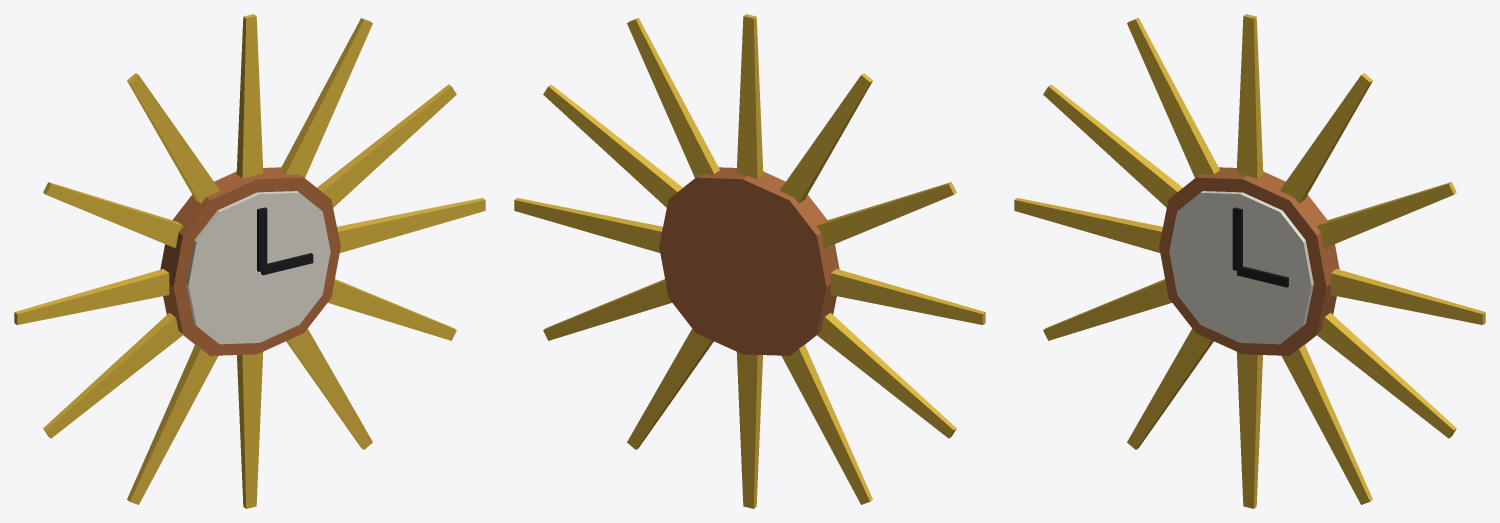
File: GD_Clock_Wall_Retro_01.glb
3 renders of one model, left to right at view 1: azimuth 30°, elevation 25°; view 2: azimuth 150°, elevation 25°; view 3: azimuth 330°, elevation 25°, orthographic.
Parts seen in each view (by area): view 1: GD_Clock_Wall_Retro_01; view 2: GD_Clock_Wall_Retro_01; view 3: GD_Clock_Wall_Retro_01.
Part boxes in pixels (x1=…): GD_Clock_Wall_Retro_01: x1=14, y1=14, x2=485, y2=508; GD_Clock_Wall_Retro_01: x1=514, y1=14, x2=985, y2=508; GD_Clock_Wall_Retro_01: x1=1014, y1=14, x2=1485, y2=508.
Bounding box in the file's own units: 0.56 × 0.56 × 0.042.
1 material, 1 textured.
